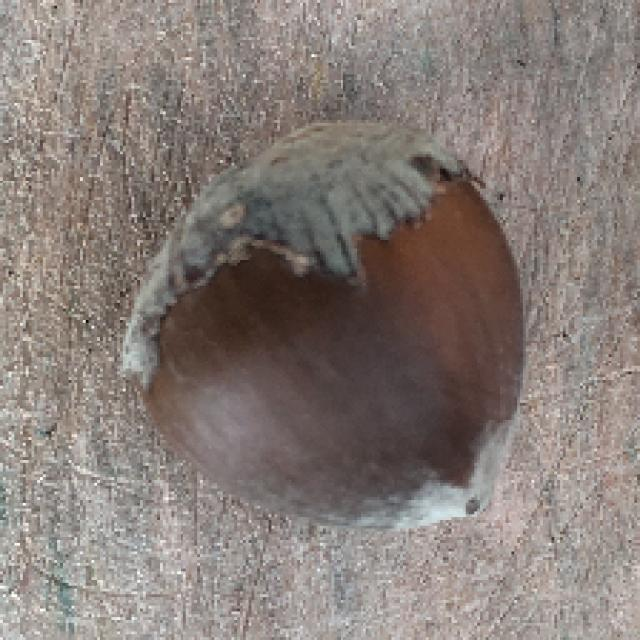damagedHazelnut: (123, 124, 535, 543)
